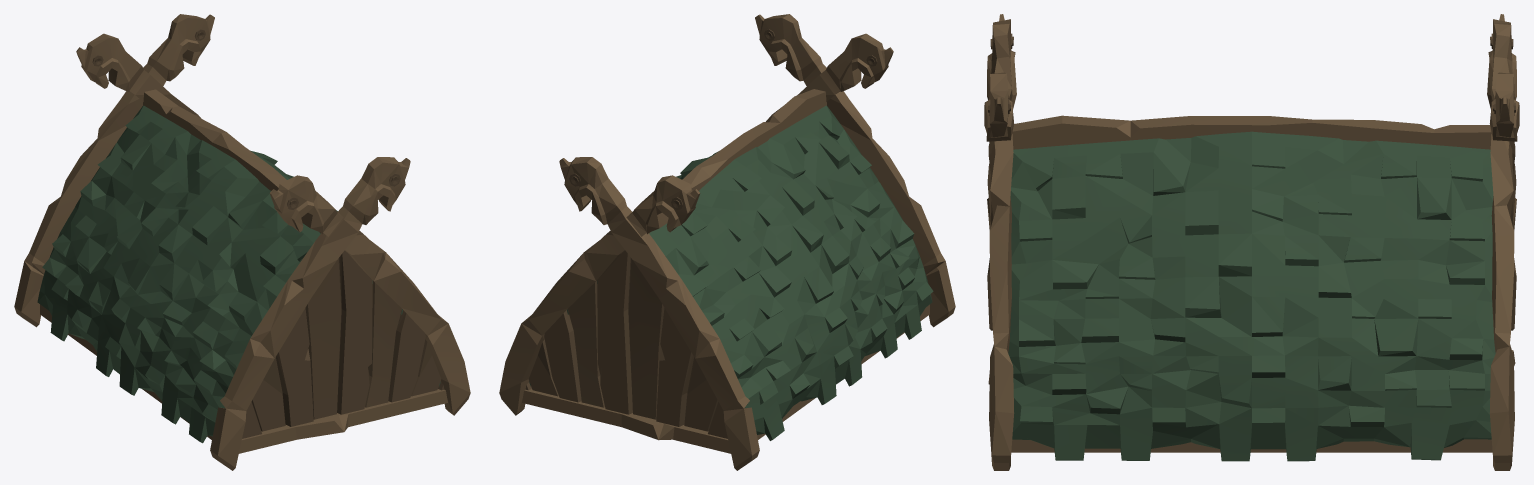
The model's file is Techo_03.glb.
3 views of the same model, side by side, from view 1: azimuth 30°, elevation 25°; view 2: azimuth 150°, elevation 25°; view 3: azimuth 270°, elevation 25° (orthographic). The views are drawn at different scales.
Visible parts, largest first — view 1: SM_Bld_Roof_02; view 2: SM_Bld_Roof_02; view 3: SM_Bld_Roof_02.
Boxes of the visible parts, x1,y1,x2,y2 form: SM_Bld_Roof_02: (14, 14, 470, 470); SM_Bld_Roof_02: (499, 14, 955, 470); SM_Bld_Roof_02: (984, 14, 1519, 470).
Size of the model in its own units: 5.06 by 5.19 by 7.15.
1 material, 1 textured.
